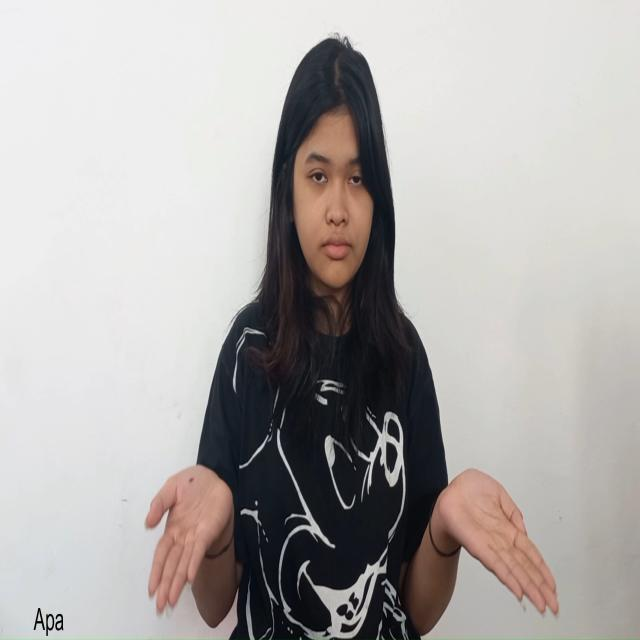Apa -BISINDO-: (142, 461, 561, 625)
